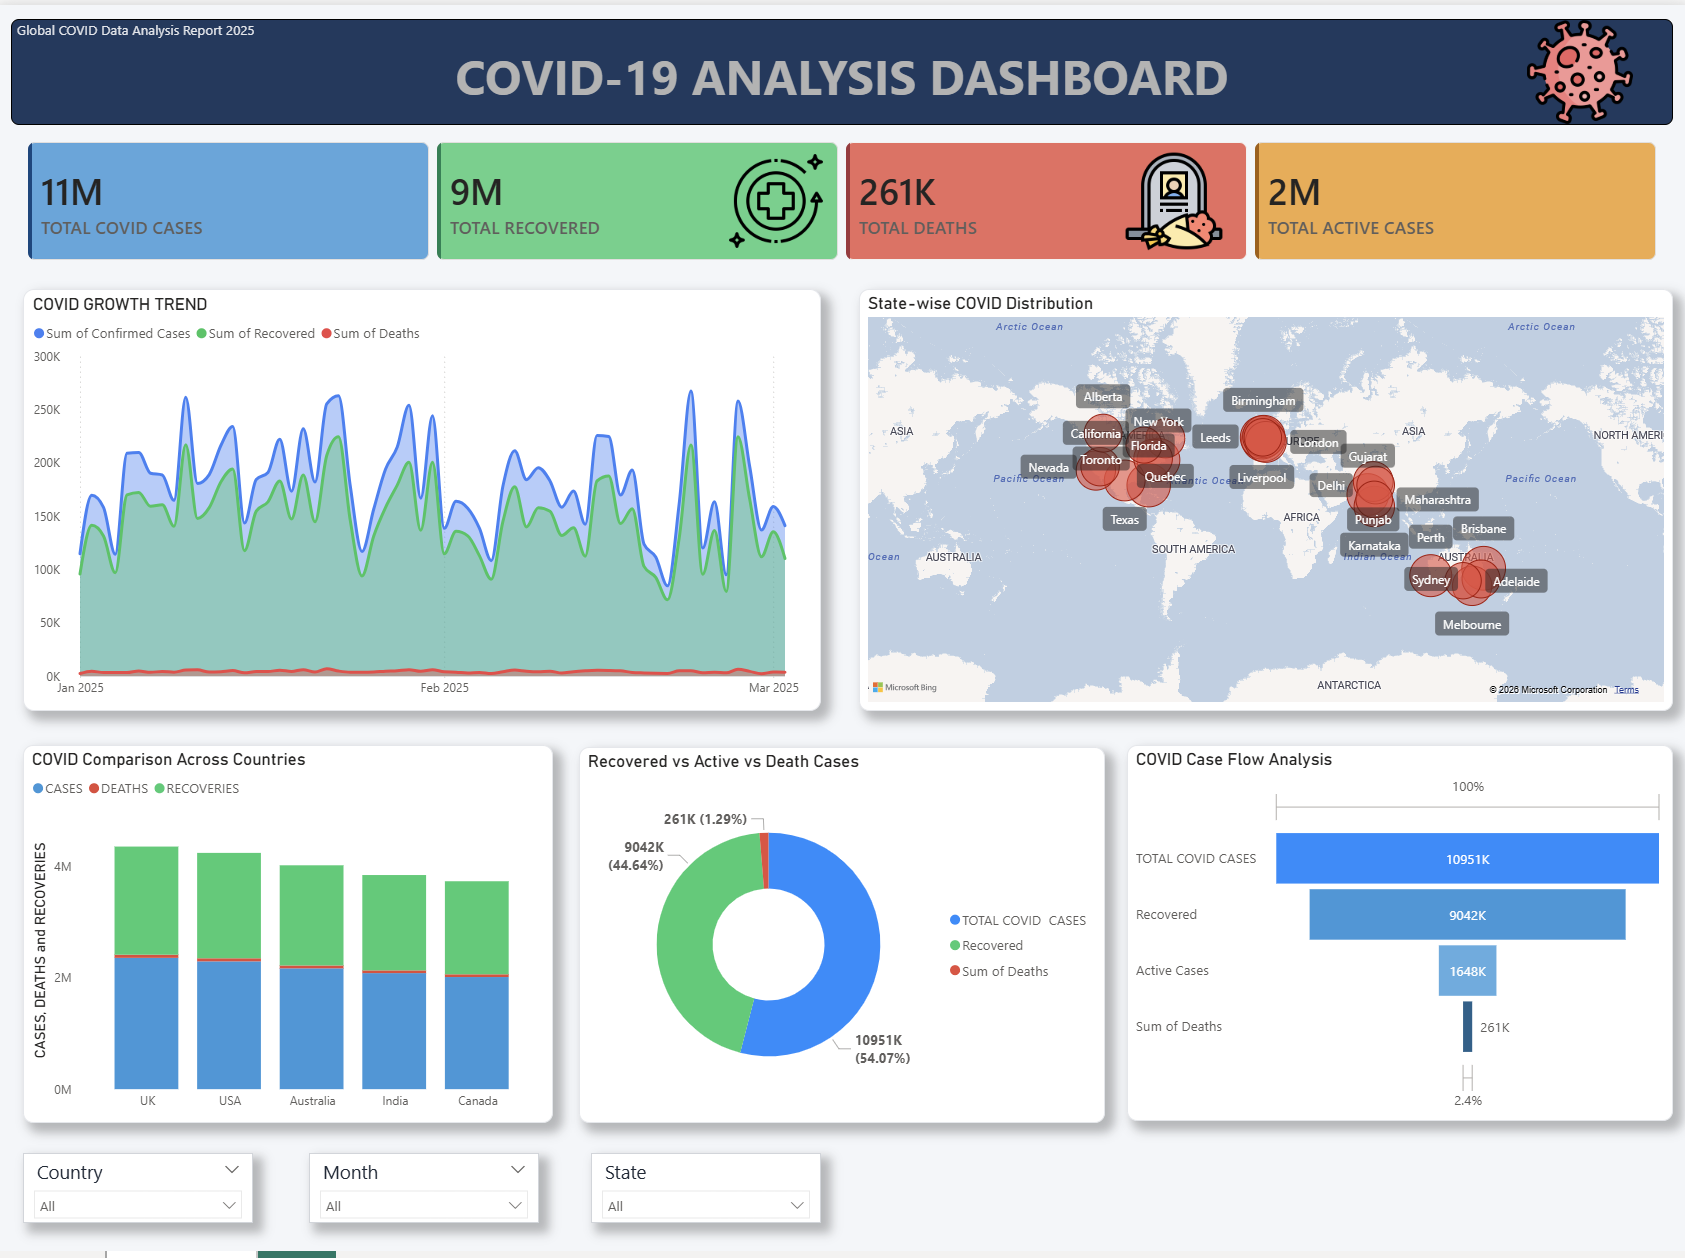

The dashboard page shown, as its layout file describes it:
{"tool":"powerbi","page":{"name":"Page 1","canvas":[1700,1331],"ordinal":0},"visuals":[{"type":"textbox","box":[18,14,1662,106],"z":0},{"type":"cardVisual","fields":{"Data":["COVID_Data.TOTAL COVID  CASES","Sum(COVID_Data.Recovered)","Sum(COVID_Data.Deaths)","Sum(COVID_Data.Active Cases)"]},"box":[18,120,1662,152],"z":1000},{"type":"lineChart","title":"COVID GROWTH TREND","fields":{"Y":["Sum(COVID_Data.Confirmed Cases)","Sum(COVID_Data.Recovered)","Sum(COVID_Data.Deaths)"],"Category":["COVID_Data.Date.Variation.Date Hierarchy.Year","COVID_Data.Date.Variation.Date Hierarchy.Month","COVID_Data.Date.Variation.Date Hierarchy.Day"]},"box":[30,284,798,422],"z":2000},{"type":"map","title":"State-wise COVID Distribution","fields":{"Category":["COVID_Data.State"],"Size":["COVID_Data.TOTAL COVID  CASES"]},"box":[866,284,814,422],"z":3000},{"type":"columnChart","title":"COVID Comparison Across Countries","fields":{"Category":["COVID_Data.Country"],"Y":["COVID_Data.TOTAL COVID  CASES","Sum(COVID_Data.Deaths)","Sum(COVID_Data.Recovered)"]},"box":[30,740,530,378],"z":4000},{"type":"donutChart","title":"Recovered vs Active vs Death Cases","fields":{"Y":["COVID_Data.TOTAL COVID  CASES","Sum(COVID_Data.Recovered)","Sum(COVID_Data.Deaths)"]},"box":[586,742,526,376],"z":5000},{"type":"funnel","title":"COVID Case Flow Analysis","fields":{"Y":["COVID_Data.TOTAL COVID  CASES","Sum(COVID_Data.Recovered)","Sum(COVID_Data.Active Cases)","Sum(COVID_Data.Deaths)"]},"box":[1134,740,546,376],"z":6000},{"type":"slicer","fields":{"Values":["COVID_Data.Country"]},"box":[30,1148,230,70],"z":7000},{"type":"slicer","fields":{"Values":["COVID_Data.State"]},"box":[598,1148,230,70],"z":8000},{"type":"slicer","fields":{"Values":["COVID_Data.Date.Variation.Date Hierarchy.Month"]},"box":[316,1148,230,70],"z":9000},{"type":"image","box":[1494,14,186,106],"z":10000},{"type":"image","box":[714,146,138,100],"z":11000},{"type":"image","box":[1112,146,138,100],"z":12000}]}

Visuals, with their boxes on the page's 1700x1331 design canvas (x1, y1, x2, y2). These are canvas units, not pixel positions in the 1685x1258 screenshot, which may show the page scaled, cropped or inside an application window:
textbox: (18,14,1680,120)
cardVisual - COVID_Data.TOTAL COVID  CASES x Sum(COVID_Data.Recovered): (18,120,1680,272)
"COVID GROWTH TREND" lineChart: (30,284,828,706)
"State-wise COVID Distribution" map: (866,284,1680,706)
"COVID Comparison Across Countries" columnChart: (30,740,560,1118)
"Recovered vs Active vs Death Cases" donutChart: (586,742,1112,1118)
"COVID Case Flow Analysis" funnel: (1134,740,1680,1116)
slicer - COVID_Data.Country: (30,1148,260,1218)
slicer - COVID_Data.State: (598,1148,828,1218)
slicer - COVID_Data.Date.Variation.Date Hierarchy.Month: (316,1148,546,1218)
image: (1494,14,1680,120)
image: (714,146,852,246)
image: (1112,146,1250,246)
